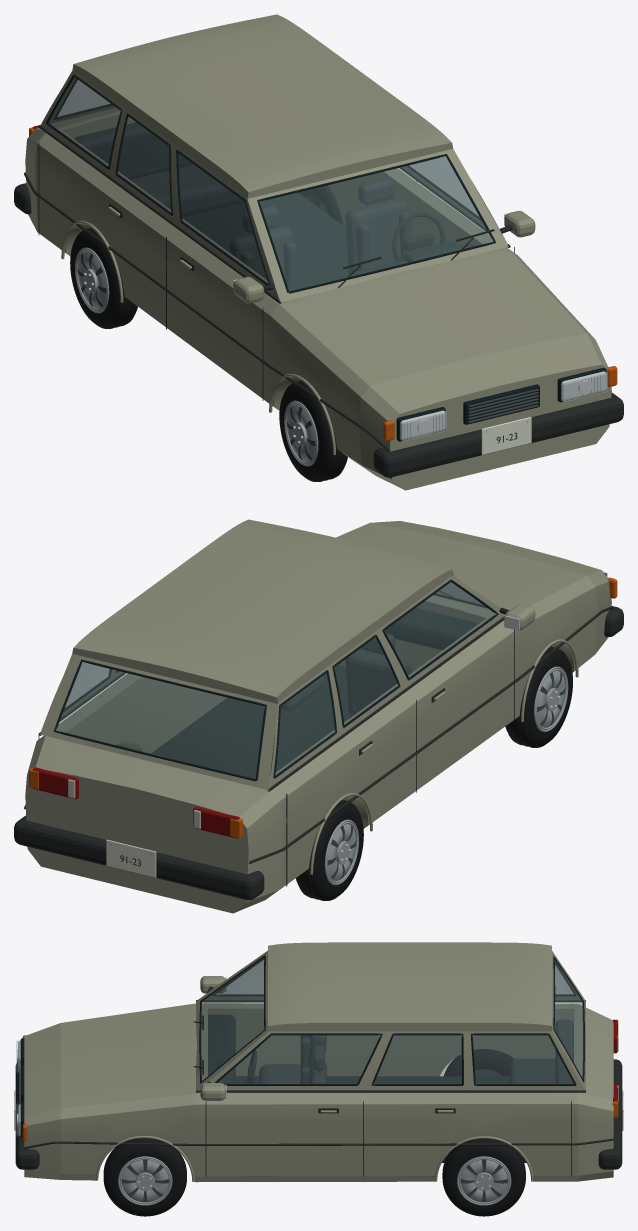
File: utility-wagon.glb
3 renders of one model, top to bottom at view 1: azimuth 30°, elevation 25°; view 2: azimuth 150°, elevation 25°; view 3: azimuth 270°, elevation 25°, orthographic. The views are drawn at different scales.
Visible parts, largest first — view 1: formed steel body, windshield, cloth cushion, belt molding, interior floor, windshield gasket, tire casing, rim bead, headrest post, headlamp reflector, fluted headlamp cover, registration plate; view 2: formed steel body, windshield, interior floor, belt molding, tire casing, windshield gasket, cloth cushion, rim bead, rear combination lamp, registration plate, headrest post, front indicator; view 3: formed steel body, windshield, tire casing, belt molding, windshield gasket, cloth cushion, rim bead, interior floor, headrest post.
Boxes of the visible parts, left/top/right/bottom form: formed steel body: left=25, top=14, right=611, bottom=490; windshield: left=48, top=77, right=493, bottom=292; cloth cushion: left=74, top=122, right=412, bottom=288; belt molding: left=14, top=125, right=623, bottom=481; interior floor: left=182, top=192, right=474, bottom=291; windshield gasket: left=38, top=74, right=606, bottom=441; tire casing: left=70, top=185, right=347, bottom=481; rim bead: left=75, top=247, right=318, bottom=466; headrest post: left=77, top=200, right=538, bottom=460; headlamp reflector: left=400, top=371, right=606, bottom=440; fluted headlamp cover: left=402, top=372, right=607, bottom=441; registration plate: left=481, top=417, right=531, bottom=454; formed steel body: left=25, top=519, right=611, bottom=913; windshield: left=56, top=582, right=496, bottom=778; interior floor: left=151, top=608, right=478, bottom=778; belt molding: left=14, top=591, right=623, bottom=900; tire casing: left=116, top=646, right=572, bottom=900; windshield gasket: left=38, top=573, right=606, bottom=886; cloth cushion: left=260, top=633, right=412, bottom=717; rim bead: left=324, top=666, right=568, bottom=885; rear combination lamp: left=32, top=767, right=239, bottom=838; registration plate: left=106, top=839, right=156, bottom=877; headrest post: left=110, top=651, right=565, bottom=879; front indicator: left=29, top=577, right=617, bottom=838; formed steel body: left=24, top=942, right=613, bottom=1182; windshield: left=201, top=957, right=583, bottom=1084; tire casing: left=103, top=1049, right=525, bottom=1216; belt molding: left=15, top=986, right=622, bottom=1192; windshield gasket: left=20, top=955, right=584, bottom=1176; cloth cushion: left=259, top=1019, right=573, bottom=1083; rim bead: left=118, top=1156, right=511, bottom=1205; interior floor: left=208, top=1014, right=526, bottom=1162; headrest post: left=19, top=1067, right=507, bottom=1202.
Bounding box in the file's own units: 1.92 × 1.48 × 4.32.
